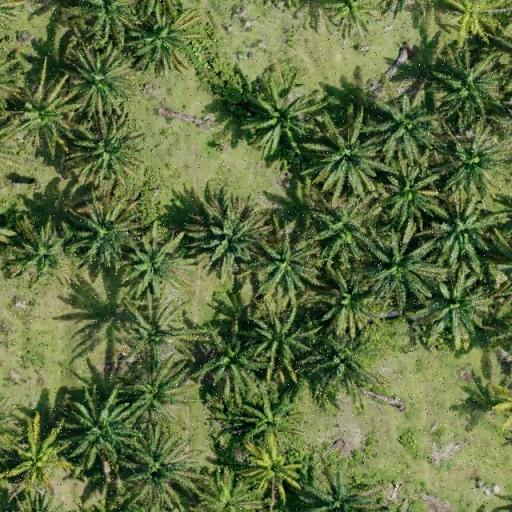Ganoderma: (7, 436, 62, 486), (250, 443, 302, 494), (16, 89, 65, 136), (450, 1, 490, 32)
